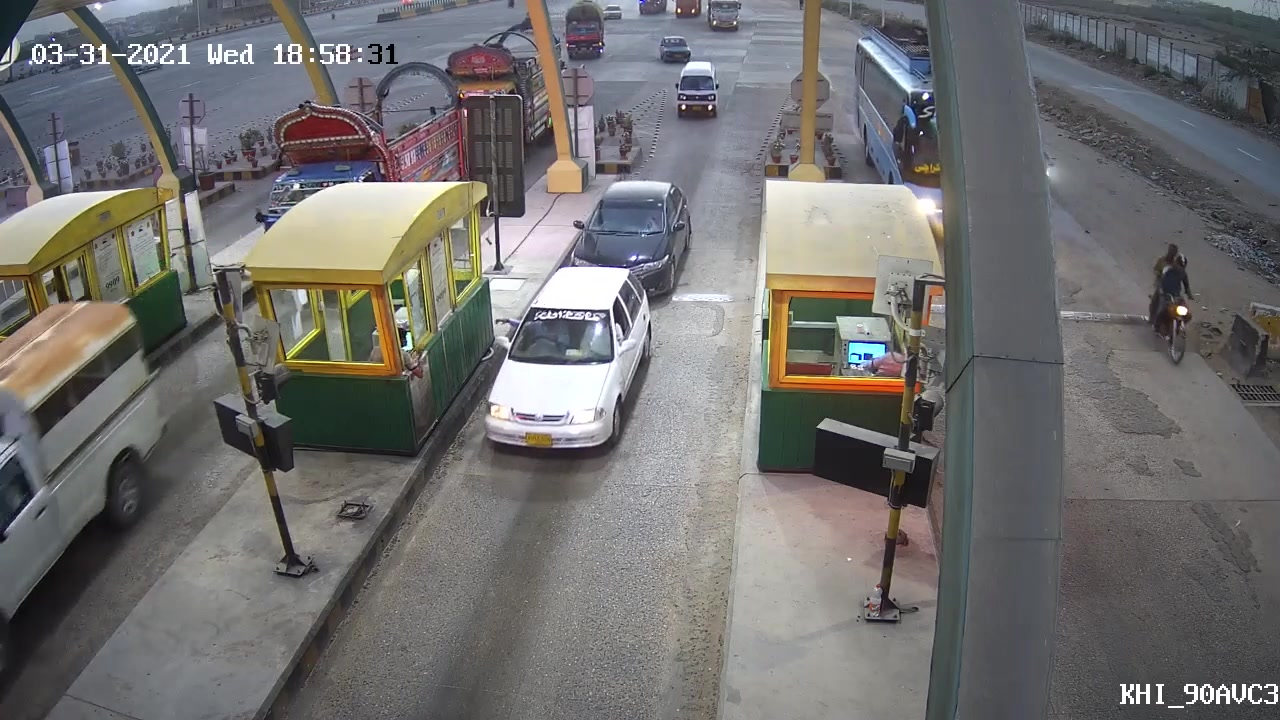F1: (484, 263, 655, 459)
